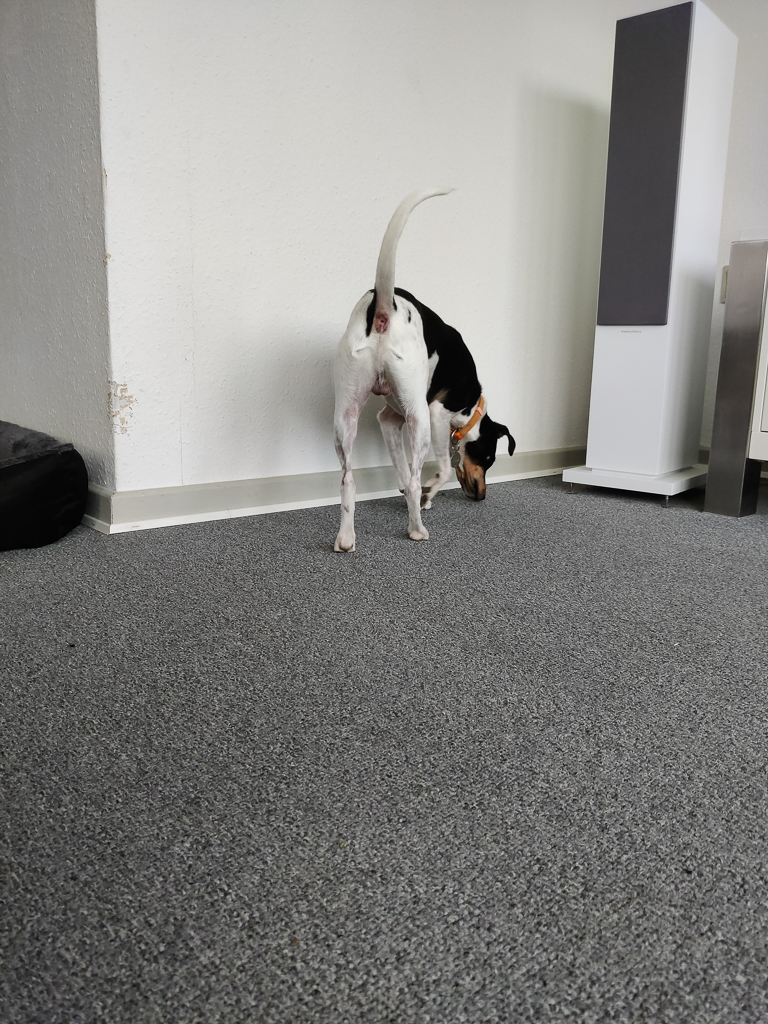Dog: (268, 156, 543, 585)
